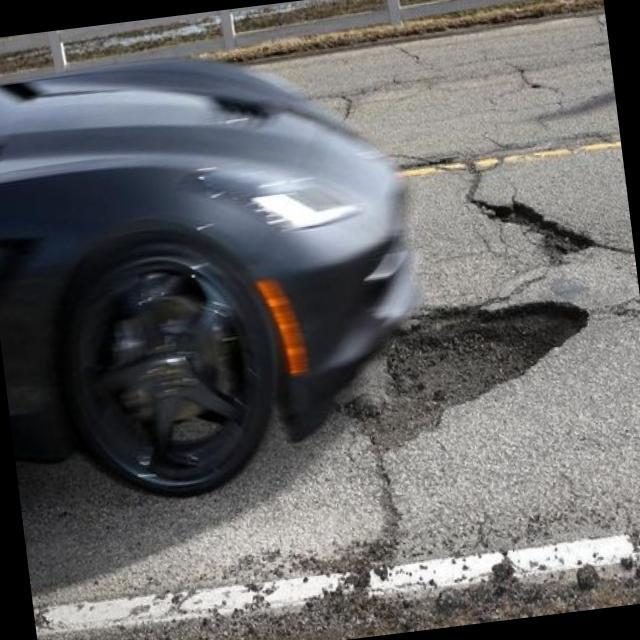Pothole: (354, 249, 609, 428)
